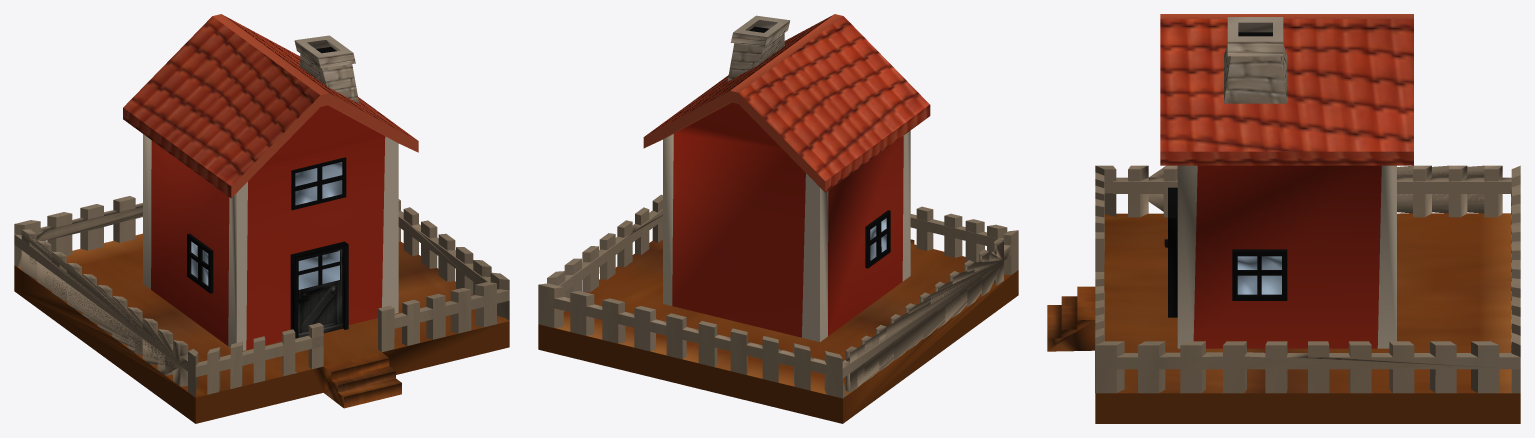
File: müstakil ev.fbx
3 views of the same model, side by side, from view 1: azimuth 30°, elevation 25°; view 2: azimuth 150°, elevation 25°; view 3: azimuth 270°, elevation 25° (orthographic). The views are drawn at different scales.
Visible parts, largest first — view 1: Cube.003; view 2: Cube.003; view 3: Cube.003.
Part boxes in pixels (x1,y1,x2,y2): Cube.003: (14,14,509,423); Cube.003: (538,14,1018,423); Cube.003: (1047,14,1520,423).
Bounding box in the file's own units: 379 × 325 × 422.
Materials: 1 (1 with a texture image).
